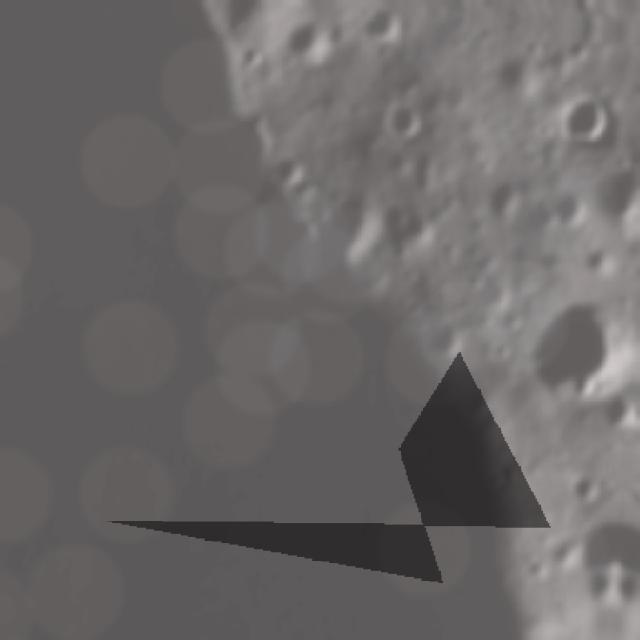crater: (511, 290, 640, 416), (574, 153, 640, 236), (373, 200, 441, 269), (550, 86, 622, 151), (568, 509, 622, 588), (272, 13, 337, 76), (490, 45, 550, 107), (377, 95, 432, 151), (417, 318, 469, 364), (481, 178, 527, 228), (269, 149, 314, 197), (354, 4, 404, 44), (474, 272, 515, 318), (552, 182, 590, 229), (563, 363, 606, 403), (594, 386, 634, 429), (553, 32, 596, 68), (566, 468, 602, 507)
